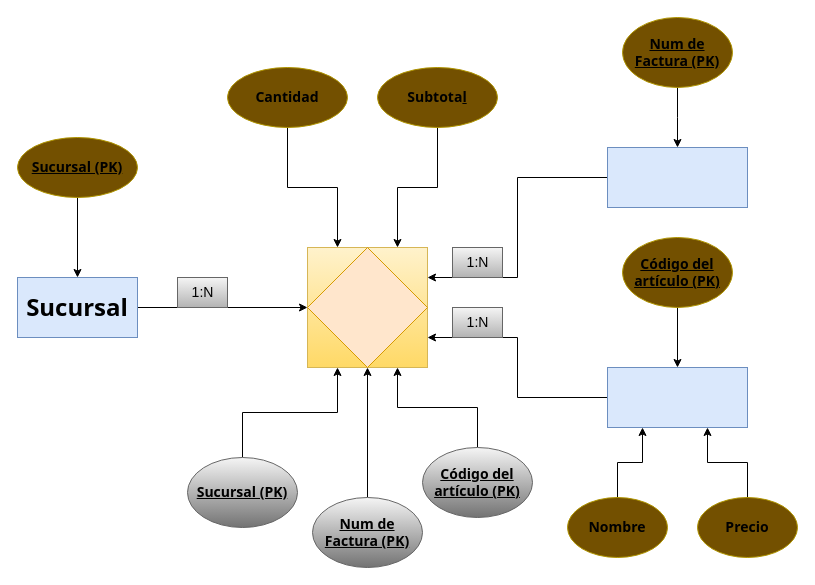
This 815x585 diagram has some shape labels left out. Each missing label, with the centre of its shape:
Articulo: [677,397]
Factura: [677,177]
Venta: [367,307]
